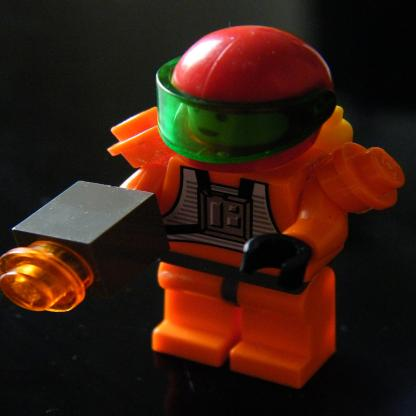Helmet: (149, 27, 340, 175)
